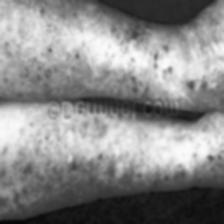Non-Cancerous Skin Condition: (0, 126, 224, 215)
